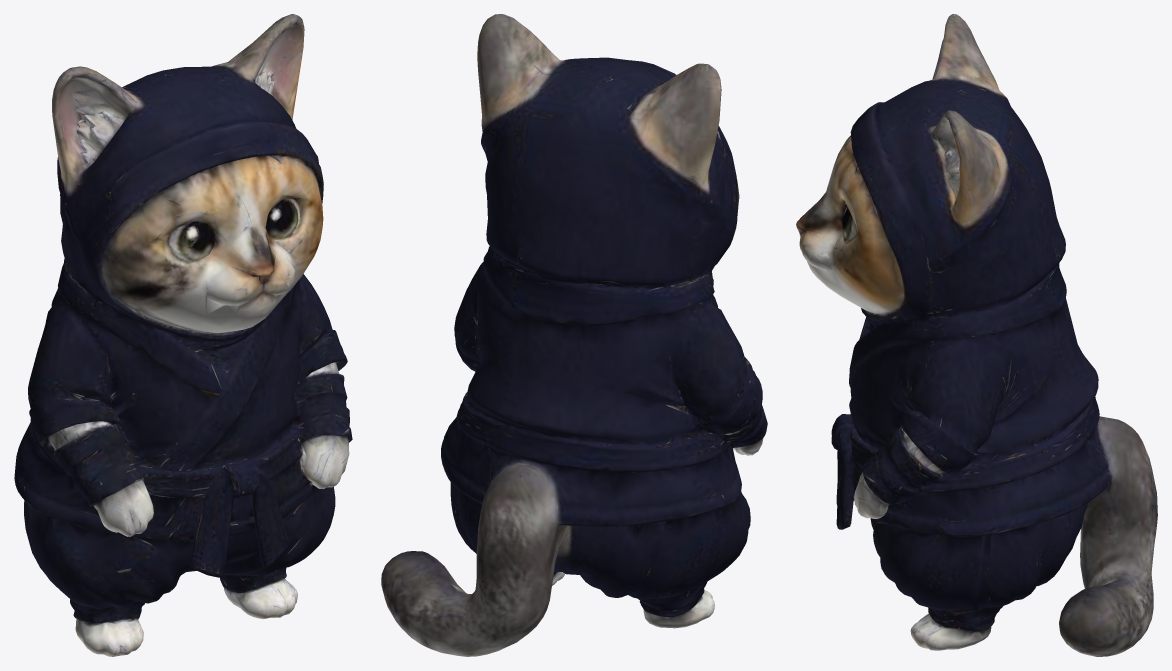
The model's file is villager_2_lite.glb.
3 renders of one model, left to right at view 1: azimuth 30°, elevation 25°; view 2: azimuth 150°, elevation 25°; view 3: azimuth 270°, elevation 25°, orthographic. The views are drawn at different scales.
Visible parts, largest first — view 1: Mesh_0; view 2: Mesh_0; view 3: Mesh_0.
Part boxes in pixels (x1,y1,x2,y2): Mesh_0: [14, 14, 352, 656]; Mesh_0: [381, 14, 767, 656]; Mesh_0: [796, 14, 1157, 656].
Size of the model in its own units: 1.03 by 1.9 by 1.15.
1 material, 1 textured.
